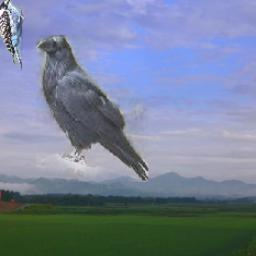Crow: (36, 36, 148, 183)
Woodpecker: (0, 0, 31, 72)
